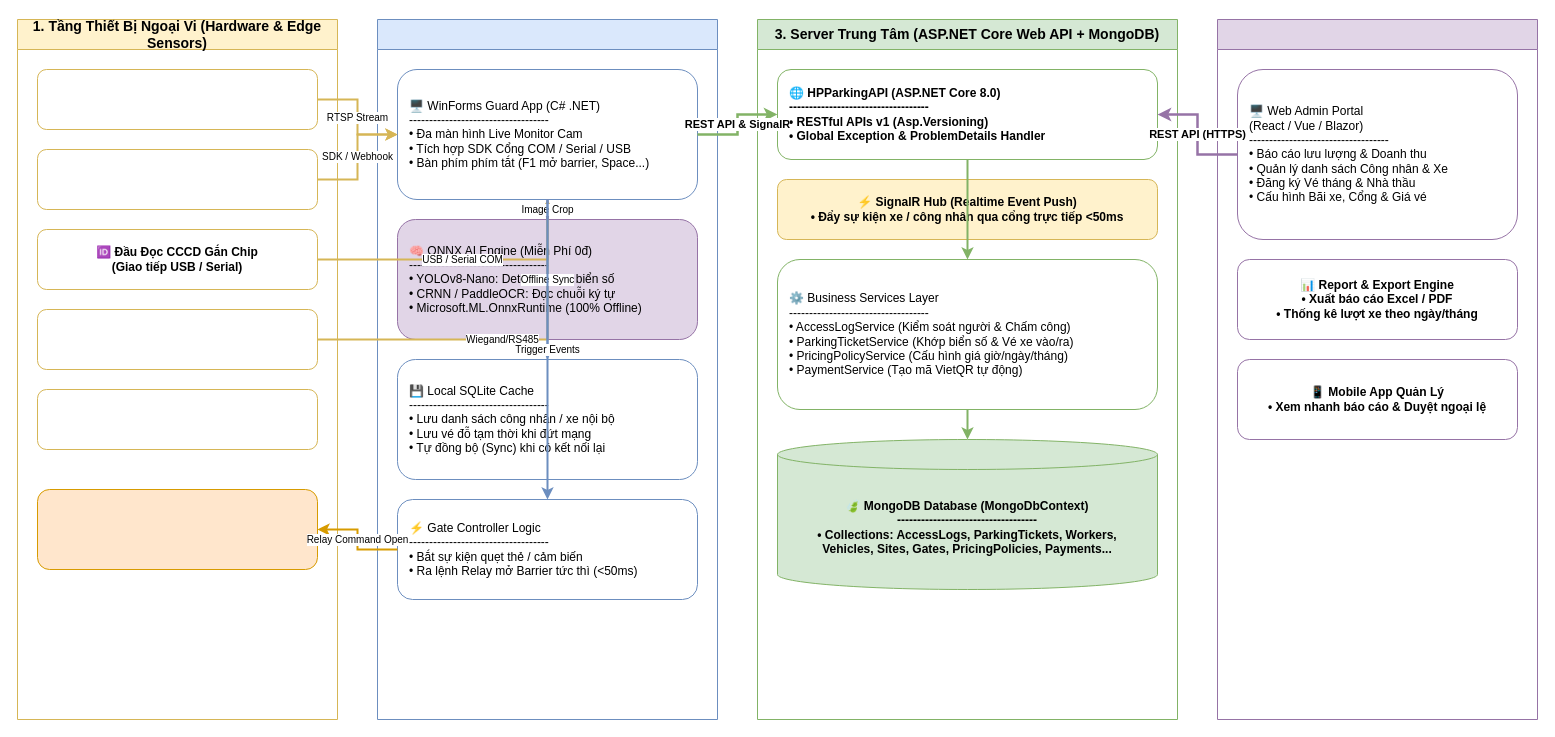
Image size: 1555x737. Some labels were removed from this diagram. Here are the shapes that lost their labels. From the top down, the box of each, then its label:
(36, 68, 318, 130): 📷 IP Camera ANPR (Đọc biển số xe)
(36, 148, 318, 210): 👤 Camera FaceID (Nhận diện / Chấm công)
(36, 308, 318, 370): 💳 Đầu Đọc Thẻ RFID (Chuẩn Wiegand / RS485)
(376, 18, 718, 720): 2. Máy Trạm Bảo Vệ Tại Cổng (WinForms Edge Client)
(1216, 18, 1538, 720): 4. Ban Quản Lý & Kế Toán (Web Portal)
(36, 388, 318, 450): 🛰️ Cảm Biến Rada / Loop Detector (Phát hiện có xe đè)
(36, 488, 318, 570): 🚧 Access Controller / Relay Box (Điều khiển Barrier & Cổng Turnstile)
